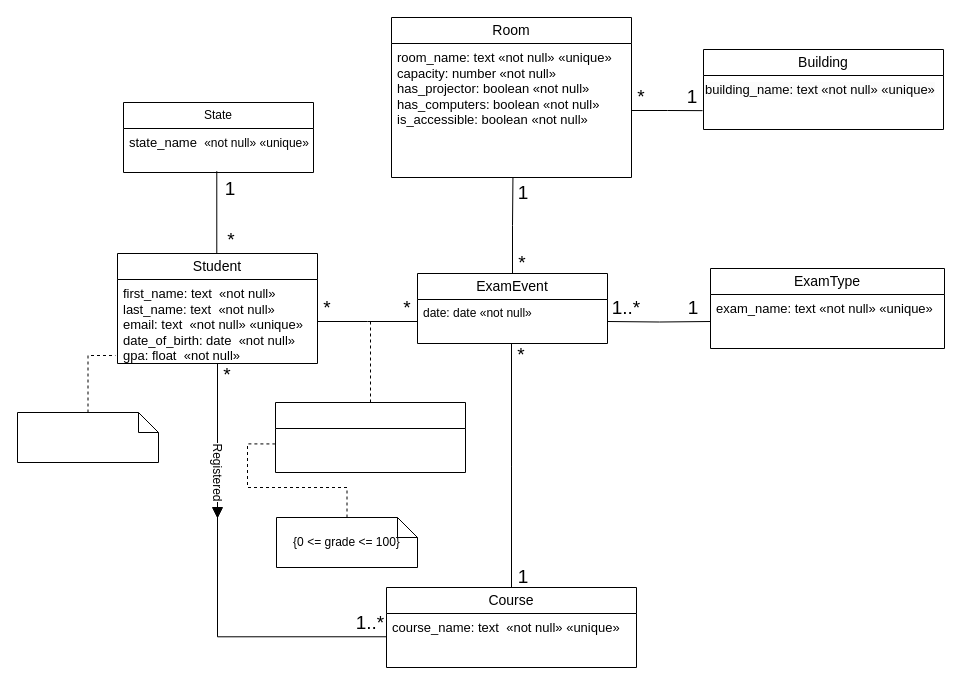
Some shapes in this 962 by 688 pixel diagram are drawn without their labels. The shapes that lost their labels are listed below. From the top down, each one's centre as x and y in pixels, then its label:
At point (87, 437): "{0 <= gpa <= 4}".
At point (370, 437): "grade: float «not null»".
